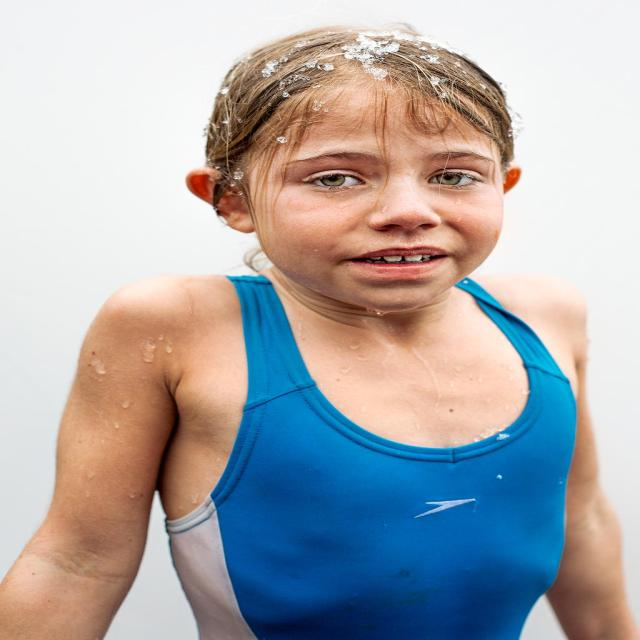Face: (237, 68, 527, 312)
